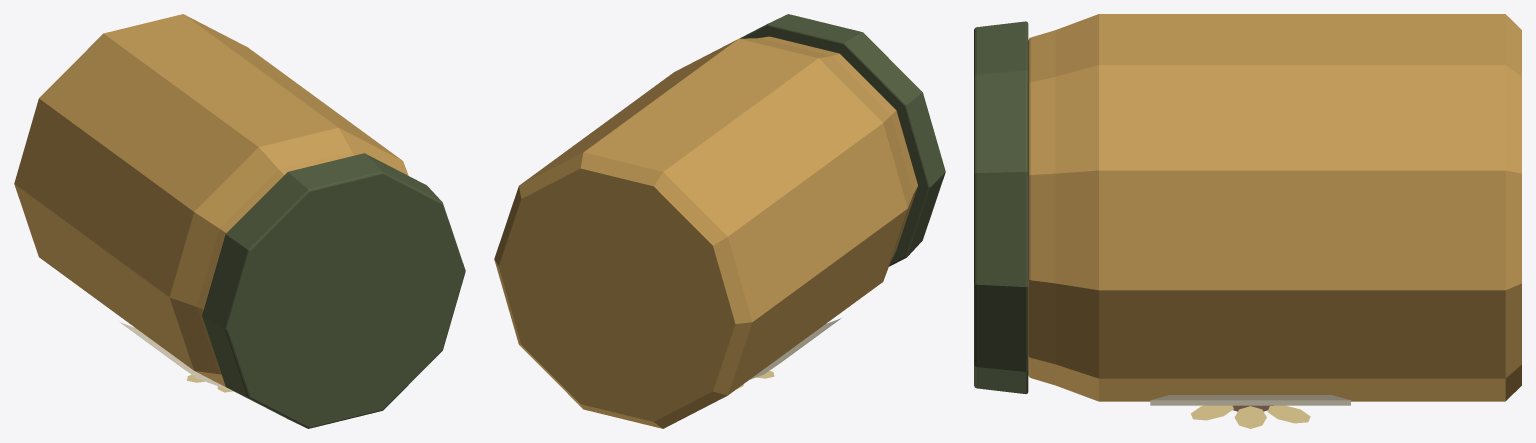
File: sunflower_seed_butter.glb
3 renders of one model, left to right at view 1: azimuth 30°, elevation 25°; view 2: azimuth 150°, elevation 25°; view 3: azimuth 270°, elevation 25°, orthographic. The views are drawn at different scales.
Visible parts, largest first — view 1: sunflower_seed_butter; view 2: sunflower_seed_butter; view 3: sunflower_seed_butter.
Part boxes in pixels (left/top/right/bottom): sunflower_seed_butter: left=14, top=14, right=465, bottom=428; sunflower_seed_butter: left=494, top=14, right=945, bottom=428; sunflower_seed_butter: left=974, top=14, right=1521, bottom=428.
Bounding box in the file's own units: 0.072 × 0.0732 × 0.101.
